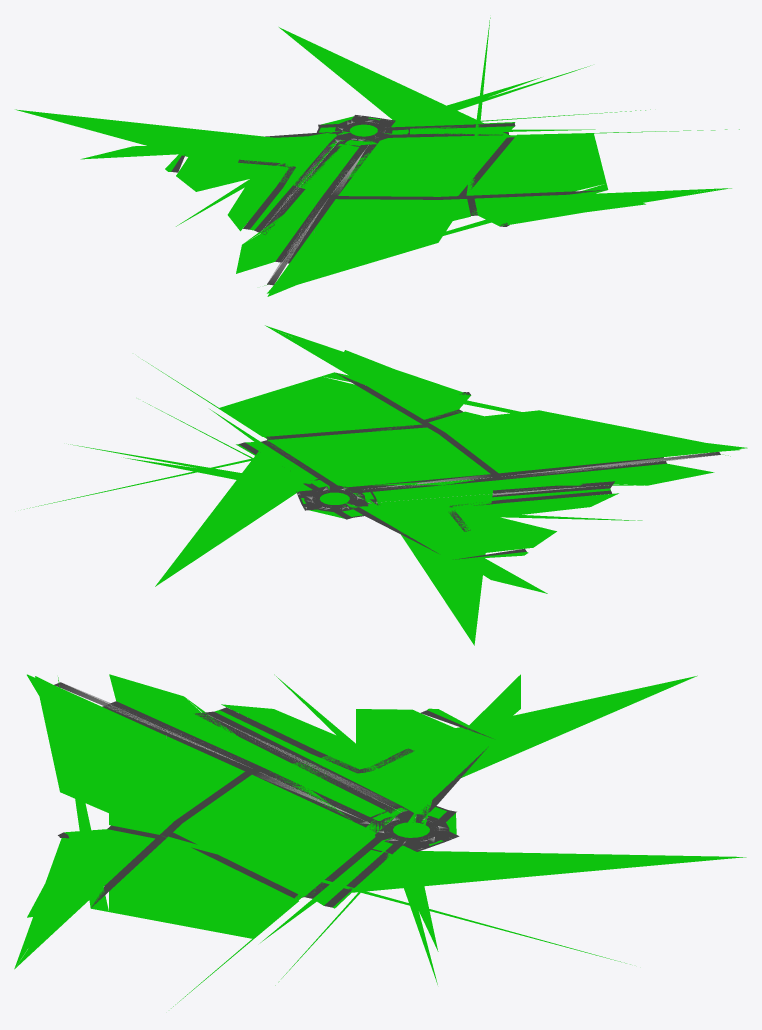
3 renders of one model, top to bottom at view 1: azimuth 30°, elevation 25°; view 2: azimuth 150°, elevation 25°; view 3: azimuth 270°, elevation 25°, orthographic. The views are drawn at different scales.
Bounding box in the file's own units: 295 × 2.3 × 267.
